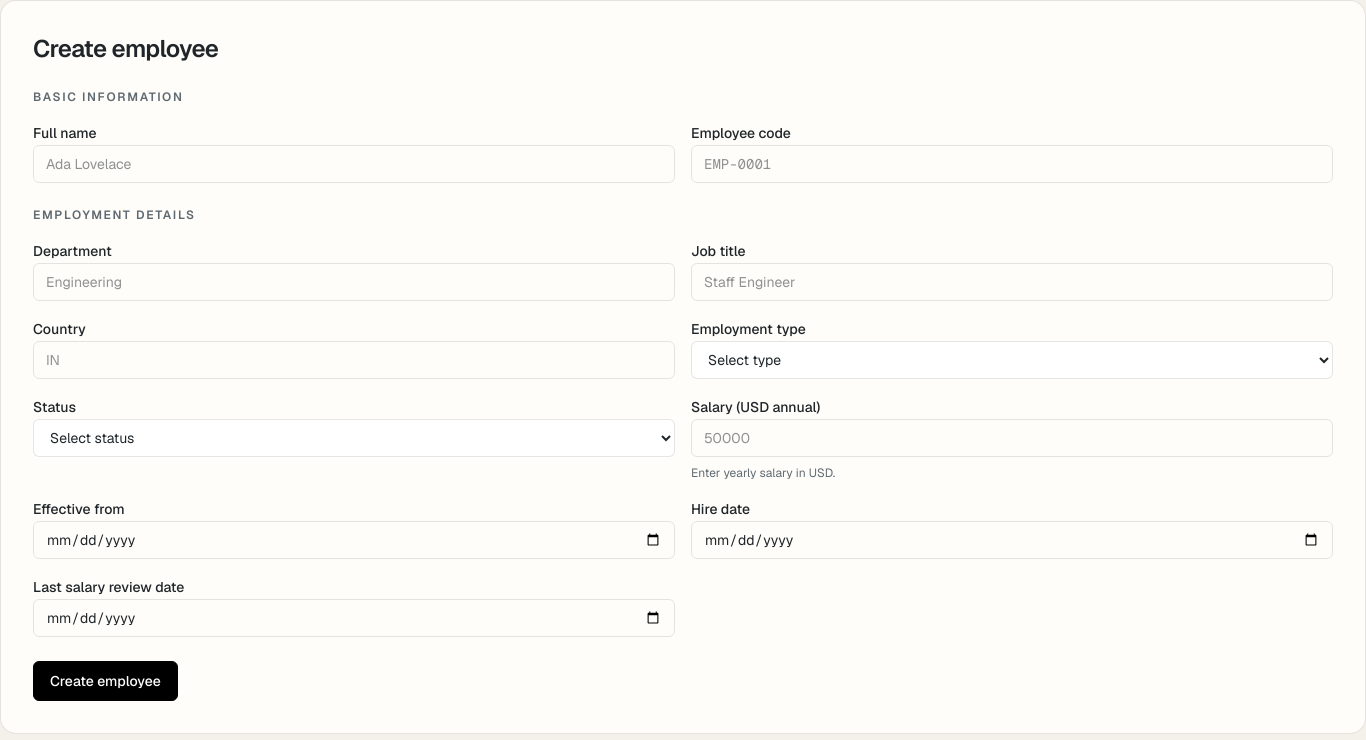
Scenario: Employee create page › shows inline client-side validation messages and prevents submit when required fields are missing
Click the button "Create employee". click: point(105, 681)
box: left=33, top=661, right=178, bottom=701
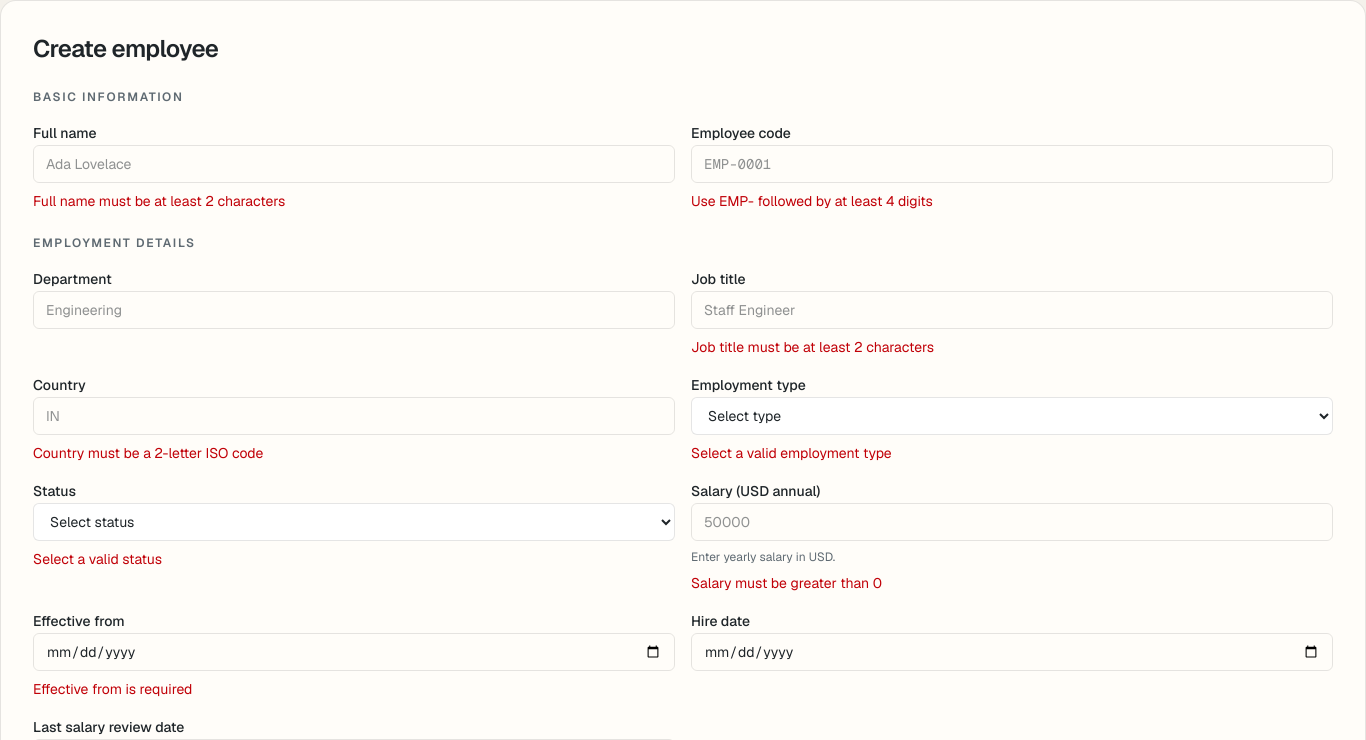
Expected: the text "Full name must be at least 2 characters" is shown, left=33, top=192, right=285, bottom=210
Expected: the text "Use EMP- followed by at least 4 digits" is shown, left=691, top=192, right=933, bottom=210
Expected: the text "Job title must be at least 2 characters" is shown, left=691, top=338, right=934, bottom=356
